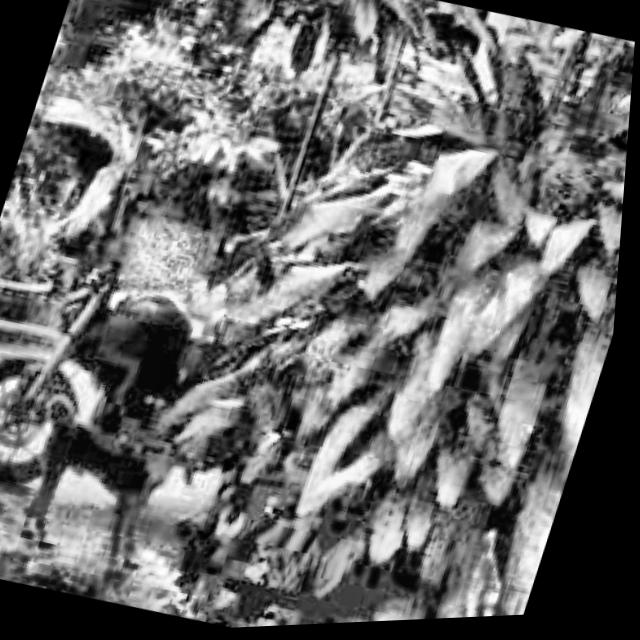motorcycle: (0, 231, 294, 539)
